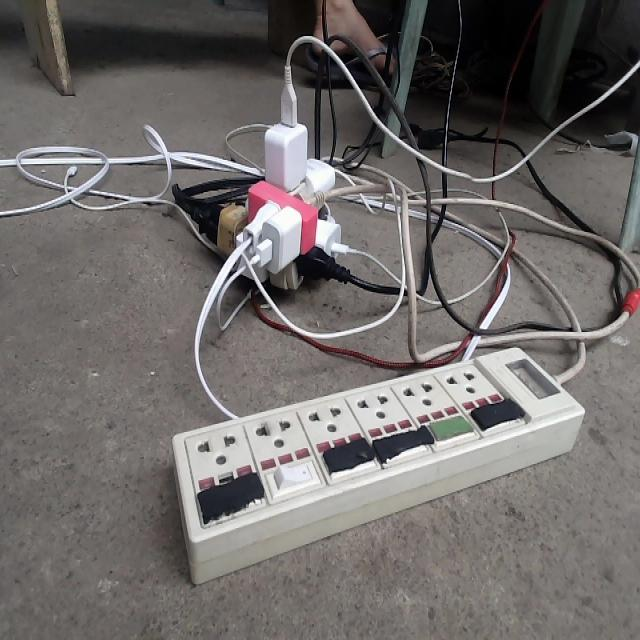-: (198, 101, 344, 288)
